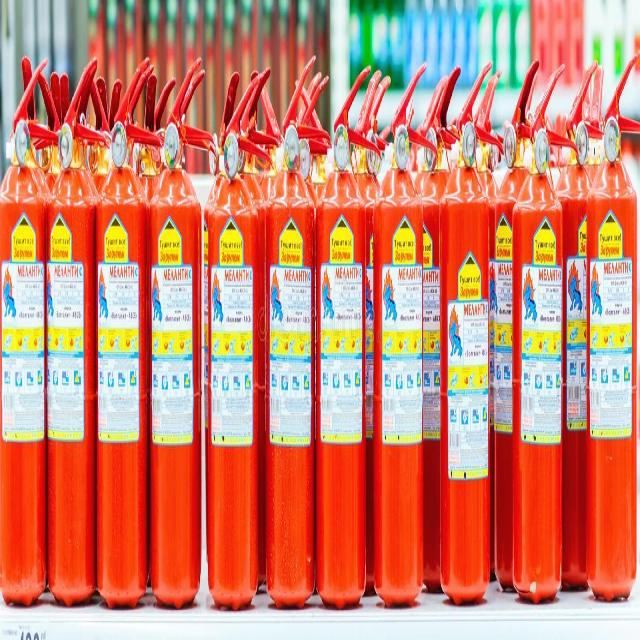fire_extinguisher: (93, 54, 166, 617), (508, 62, 578, 607), (262, 54, 330, 615), (313, 59, 382, 607), (202, 67, 271, 615), (147, 54, 214, 612), (436, 60, 502, 610), (372, 58, 436, 614), (44, 56, 108, 610), (0, 53, 60, 604), (583, 51, 640, 609), (546, 58, 602, 595), (492, 54, 544, 591), (412, 68, 458, 591)
